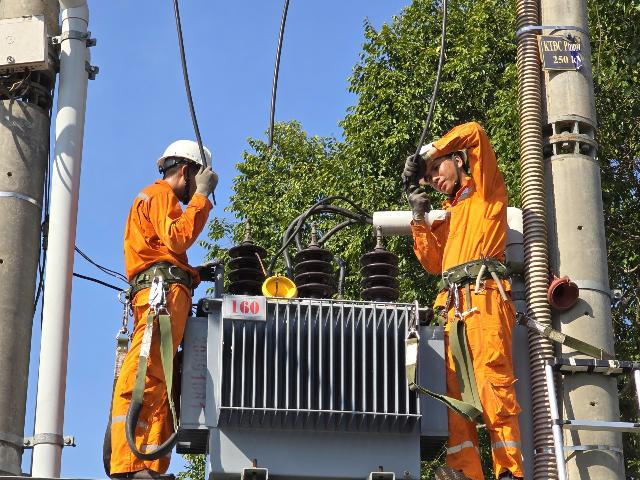gloves: (190, 166, 233, 205), (394, 186, 432, 229), (397, 142, 431, 184), (195, 256, 223, 283)
harness: (111, 264, 194, 300), (424, 258, 518, 289)
helmet: (150, 131, 235, 164), (404, 139, 478, 165)
shoes: (101, 457, 192, 480), (431, 458, 468, 480), (493, 469, 530, 480)
